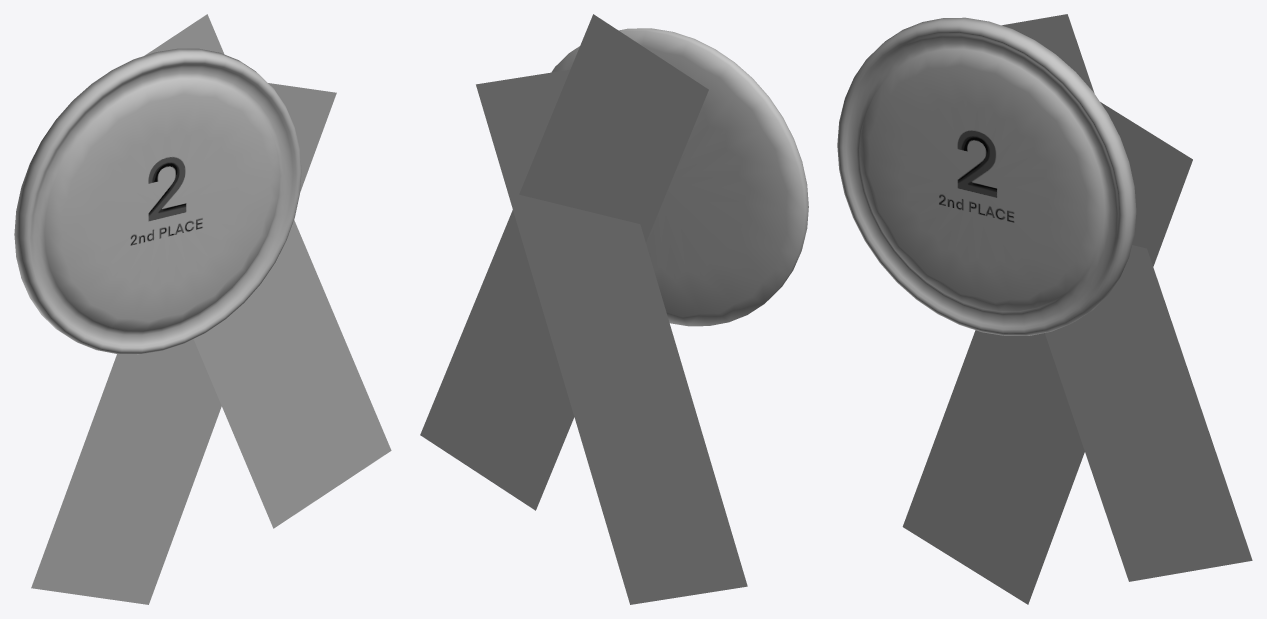
The model's file is 2ndmedal 1.fbx.
3 renders of one model, left to right at view 1: azimuth 30°, elevation 25°; view 2: azimuth 150°, elevation 25°; view 3: azimuth 330°, elevation 25°, orthographic. The views are drawn at different scales.
Parts seen in each view (by area): view 1: pCylinder1, pPlane3, pPlane4; view 2: pPlane3, pPlane4, pCylinder1; view 3: pCylinder1, pPlane4, pPlane3.
Part boxes in pixels (left/top/right/bottom): pCylinder1: left=14, top=48, right=301, bottom=354; pPlane3: left=31, top=83, right=336, bottom=604; pPlane4: left=144, top=14, right=391, bottom=528; pPlane3: left=476, top=69, right=747, bottom=604; pPlane4: left=420, top=14, right=708, bottom=510; pCylinder1: left=551, top=28, right=808, bottom=326; pCylinder1: left=837, top=17, right=1136, bottom=335; pPlane4: left=1002, top=14, right=1252, bottom=581; pPlane3: left=902, top=102, right=1192, bottom=604.
Size of the model in its own units: 6.38 by 9.28 by 0.9658.
2 materials, 1 textured.
